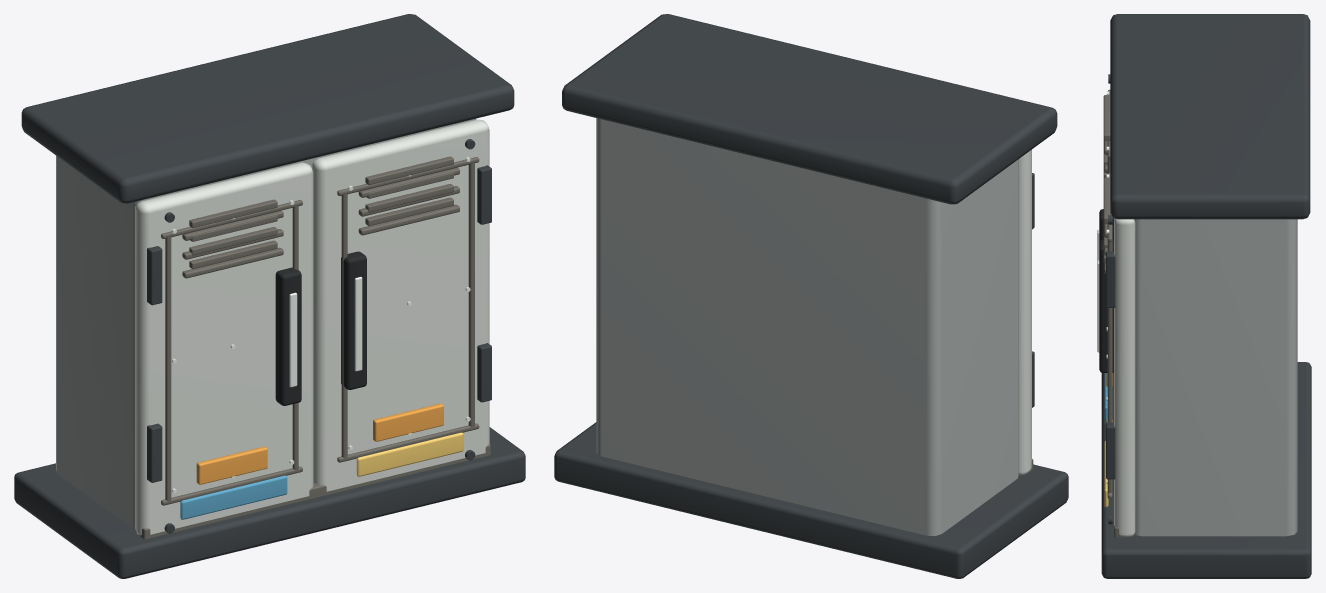
File: hp_room_locker_low.glb
3 renders of one model, left to right at view 1: azimuth 30°, elevation 25°; view 2: azimuth 150°, elevation 25°; view 3: azimuth 270°, elevation 25°, orthographic. The views are drawn at different scales.
Parts seen in each view (by area): view 1: room_locker_low_top_beveled_cap, room_locker_low_locker_door_l, room_locker_low_locker_door_r, room_locker_low_body_shell, room_locker_low_bottom_plinth, room_locker_low_handle_l, room_locker_low_handle_r, room_locker_low_l_lower_color_art_color_block, room_locker_low_r_lower_color_art_color_block, room_locker_low_l_door_inset_trim_left, room_locker_low_r_door_inset_trim_right, room_locker_low_id_plate_l (+22 smaller); view 2: room_locker_low_body_shell, room_locker_low_top_beveled_cap, room_locker_low_bottom_plinth, room_locker_low_locker_door_l; view 3: room_locker_low_body_shell, room_locker_low_top_beveled_cap, room_locker_low_bottom_plinth, room_locker_low_locker_door_r, room_locker_low_handle_r, room_locker_low_r_door_inset_trim_right, room_locker_low_hinge_bottom_r, room_locker_low_hinge_top_r, room_locker_low_l_vent_slit_04, room_locker_low_r_vent_slit_04.
Part boxes in pixels (box(x1,y1,x2,y2)): room_locker_low_top_beveled_cap: box(21, 14, 514, 203); room_locker_low_locker_door_l: box(135, 162, 313, 535); room_locker_low_locker_door_r: box(312, 119, 489, 491); room_locker_low_body_shell: box(56, 118, 476, 529); room_locker_low_bottom_plinth: box(14, 427, 525, 578); room_locker_low_handle_l: box(275, 267, 301, 405); room_locker_low_handle_r: box(341, 251, 366, 389); room_locker_low_l_lower_color_art_color_block: box(180, 475, 287, 519); room_locker_low_r_lower_color_art_color_block: box(356, 432, 463, 476); room_locker_low_l_door_inset_trim_left: box(165, 237, 171, 501); room_locker_low_r_door_inset_trim_right: box(468, 163, 474, 427); room_locker_low_id_plate_l: box(196, 446, 267, 484); room_locker_low_body_shell: box(596, 118, 1018, 535); room_locker_low_top_beveled_cap: box(562, 14, 1057, 204); room_locker_low_bottom_plinth: box(554, 422, 1068, 578); room_locker_low_locker_door_l: box(1018, 149, 1031, 475); room_locker_low_body_shell: box(1134, 219, 1297, 536); room_locker_low_top_beveled_cap: box(1110, 14, 1310, 219); room_locker_low_bottom_plinth: box(1101, 362, 1311, 578); room_locker_low_locker_door_r: box(1114, 218, 1135, 536); room_locker_low_handle_r: box(1099, 239, 1113, 372); room_locker_low_r_door_inset_trim_right: box(1107, 241, 1112, 493); room_locker_low_hinge_bottom_r: box(1106, 422, 1115, 479); room_locker_low_hinge_top_r: box(1106, 251, 1115, 307); room_locker_low_l_vent_slit_04: box(1103, 95, 1110, 140); room_locker_low_r_vent_slit_04: box(1103, 178, 1110, 223).
Size of the model in its own units: 1.25 by 1.16 by 0.5902.
